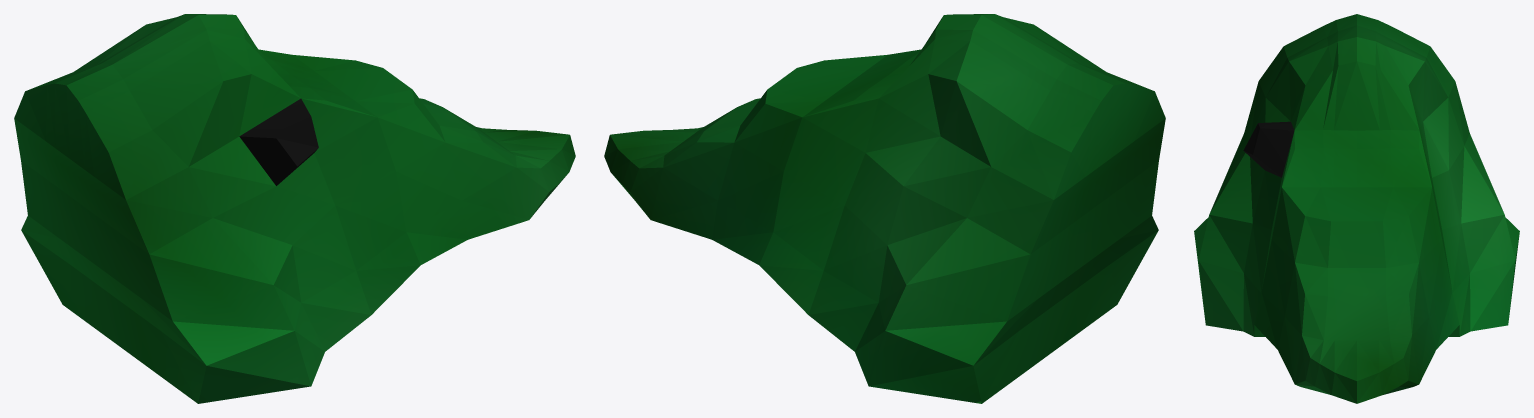
The model's file is WITCH NOSE.fbx.
3 views of the same model, side by side, from view 1: azimuth 30°, elevation 25°; view 2: azimuth 150°, elevation 25°; view 3: azimuth 270°, elevation 25° (orthographic). The views are drawn at different scales.
Parts seen in each view (by area): view 1: WITCH_NOSE; view 2: WITCH_NOSE; view 3: WITCH_NOSE.
Boxes of the visible parts, <box> form: WITCH_NOSE: <box>14,14,575,403</box>; WITCH_NOSE: <box>604,14,1165,403</box>; WITCH_NOSE: <box>1194,14,1519,403</box>.
Bounding box in the file's own units: 9.31 × 5.64 × 5.87.
